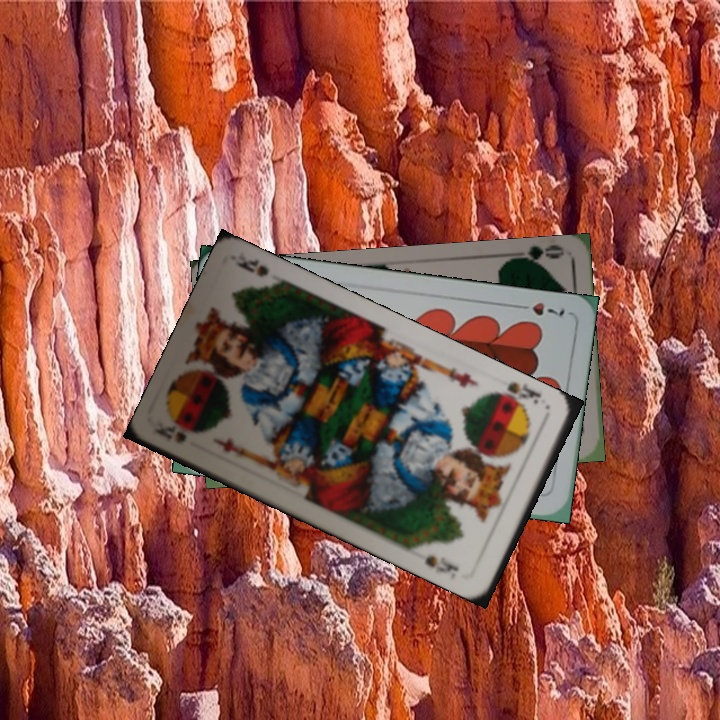GO: (506, 242, 565, 270)
H7: (511, 298, 567, 319)
SK: (493, 378, 544, 412), (153, 419, 189, 446)
